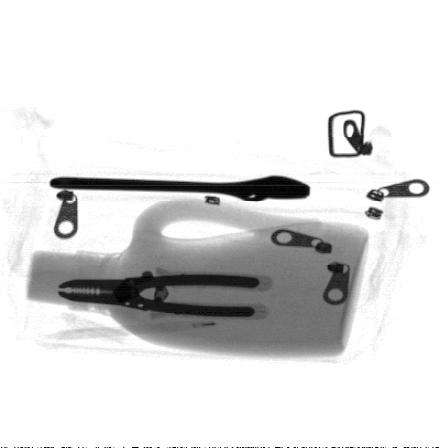Pliers: (54, 273, 260, 317)
Wrench: (48, 175, 311, 200)
